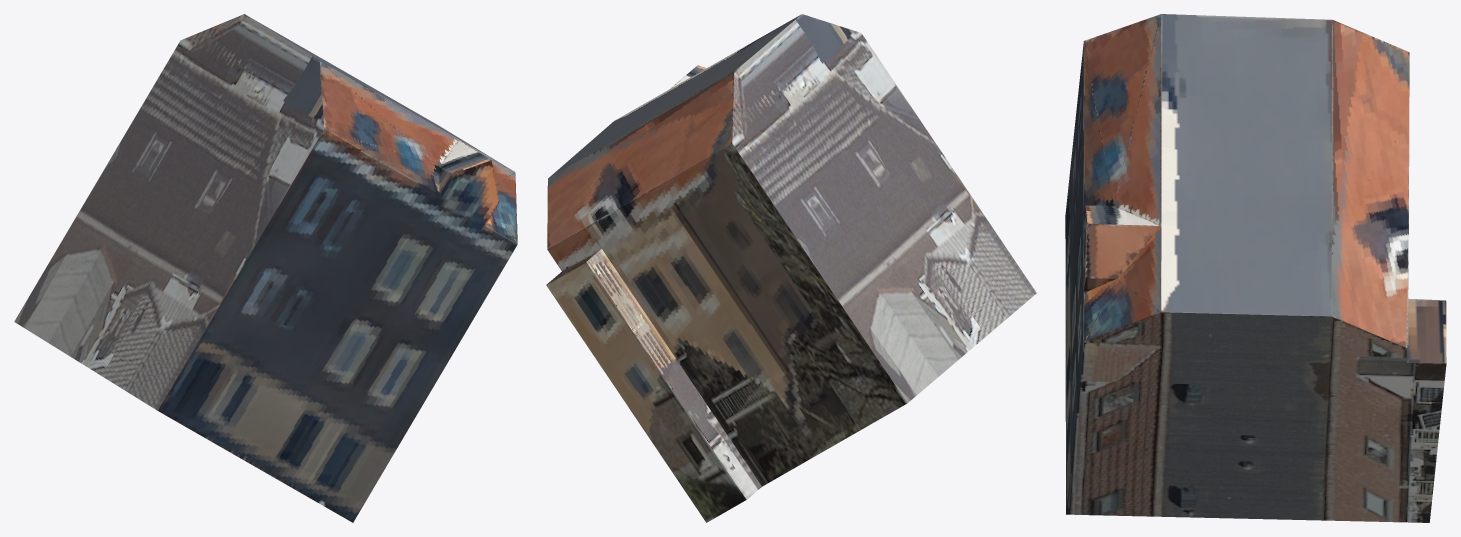
3 renders of one model, left to right at view 1: azimuth 30°, elevation 25°; view 2: azimuth 150°, elevation 25°; view 3: azimuth 270°, elevation 25°, orthographic. The views are drawn at different scales.
Visible parts, largest first — view 1: BAG_0599100000688758 (×4); view 2: BAG_0599100000688758 (×4); view 3: BAG_0599100000688758 (×4).
Part boxes in pixels (bbox=[...]): BAG_0599100000688758 (×4): bbox=[14, 14, 517, 522]; BAG_0599100000688758 (×4): bbox=[546, 14, 1036, 522]; BAG_0599100000688758 (×4): bbox=[1065, 14, 1446, 522].
Bounding box in the file's own units: 15.55 × 16.27 × 10.86.
Materials: 1 (1 with a texture image).
